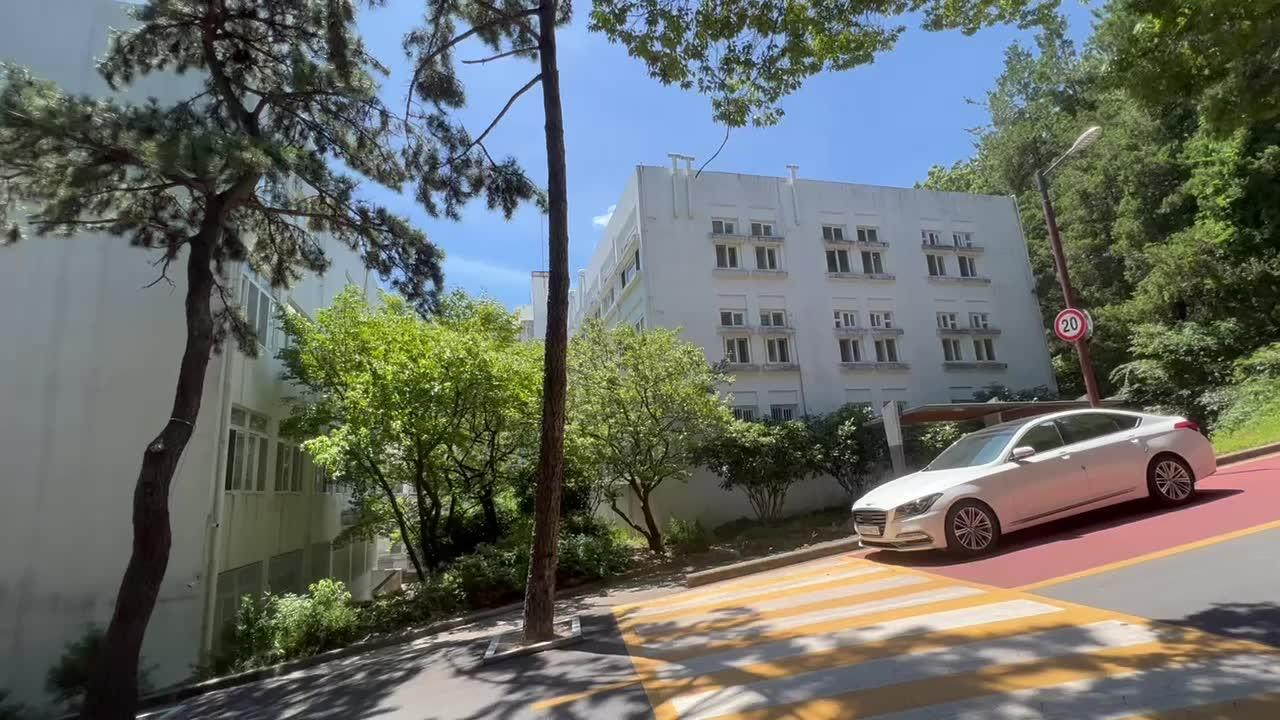building: (647, 130, 1059, 391)
